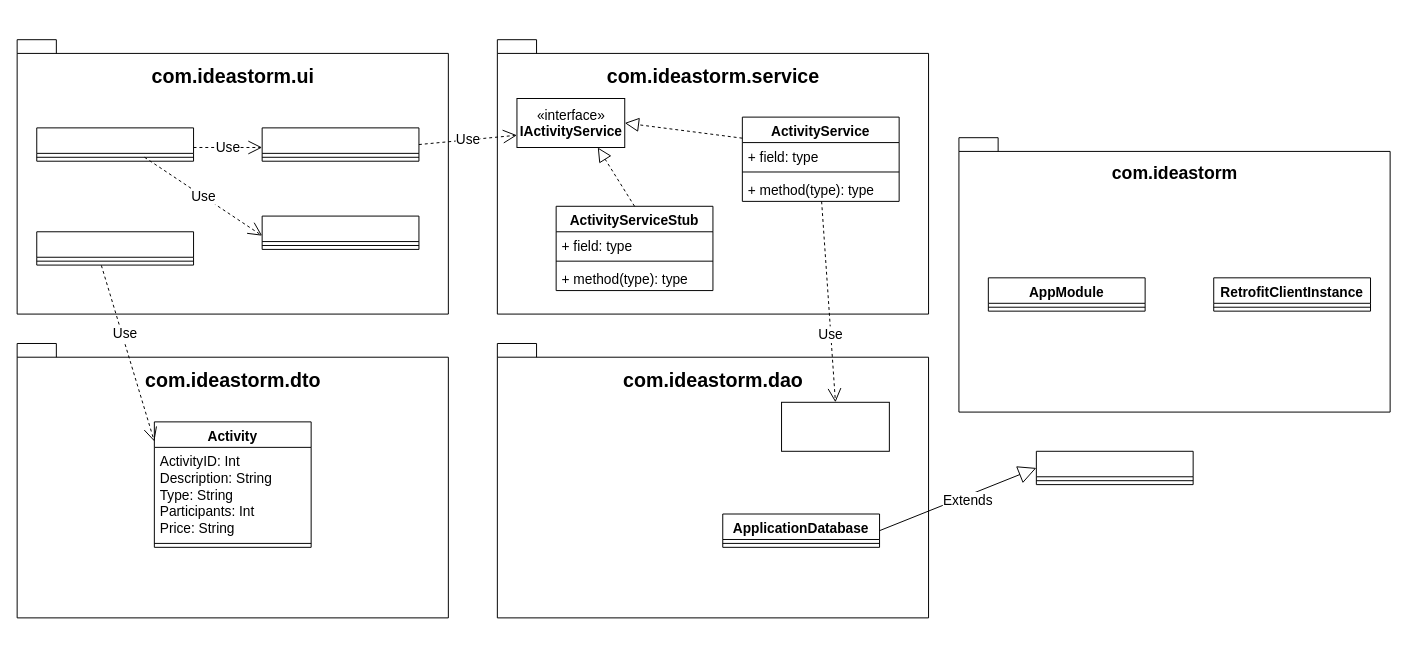
The diagram is 1407 pixels wide and 666 high, and some of its shapes have lost their labels. The shapes that lost their labels are listed below. From the top down, each one's centre as x and y in pixels, then its label:
At (x=115, y=144): "MainActivity".
At (x=340, y=144): "ViewModel".
At (x=115, y=248): "AccountDetailsActivity".
At (x=340, y=232): "ApplicationViewModel".
At (x=835, y=426): "«interface» IActivityDAO".
At (x=1114, y=467): "RoomDatabase".
